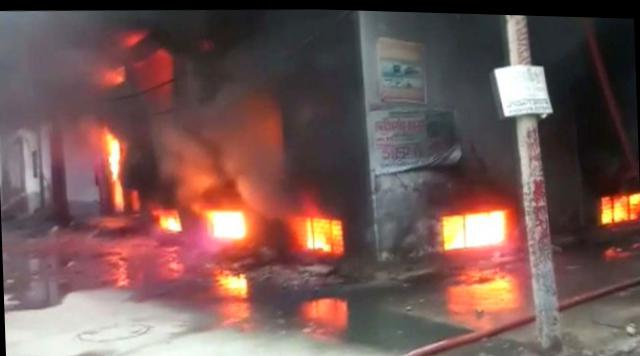fire: (439, 204, 506, 249), (300, 216, 348, 257), (598, 187, 639, 227), (204, 209, 247, 243), (106, 130, 124, 185), (155, 210, 183, 231)
smoke: (244, 6, 373, 219), (0, 8, 99, 152), (181, 15, 244, 208), (422, 11, 491, 114), (126, 86, 180, 205), (472, 114, 524, 185), (531, 12, 596, 57), (367, 9, 418, 41)
